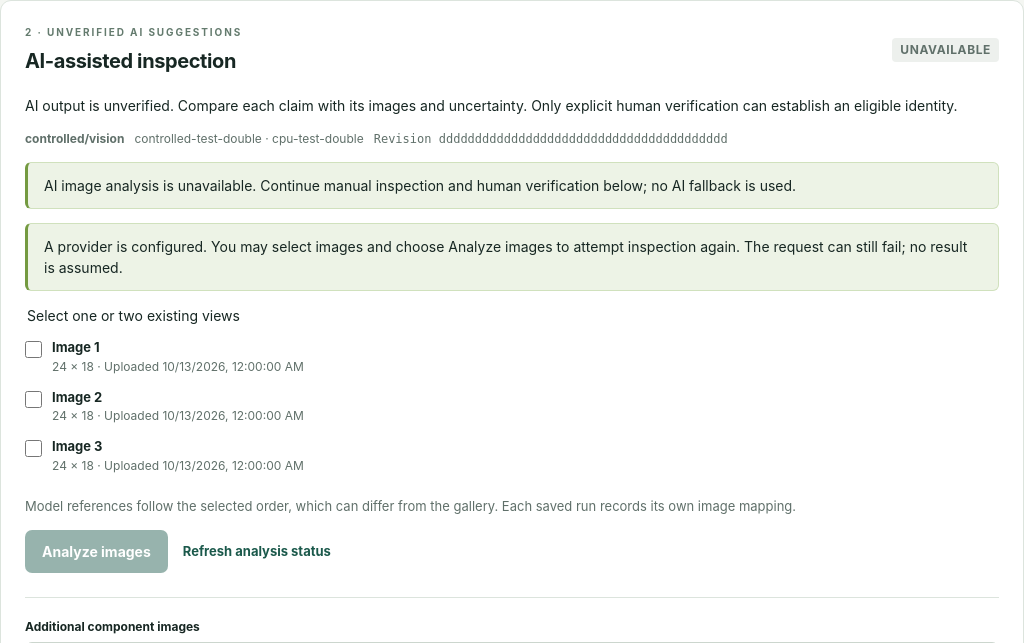
Test: inspection requests and explicit human actions › allows an explicit configured-provider retry without assuming successful recovery
Expected: the text "A provider is configured" is shown, 44,238 -> 967,276
Step 1. Click the checkbox labelled "Image 1 24 × 18 · Uploaded 10/13/2026, 12:00:00 AM" → (34, 350), box 25,341 -> 42,358
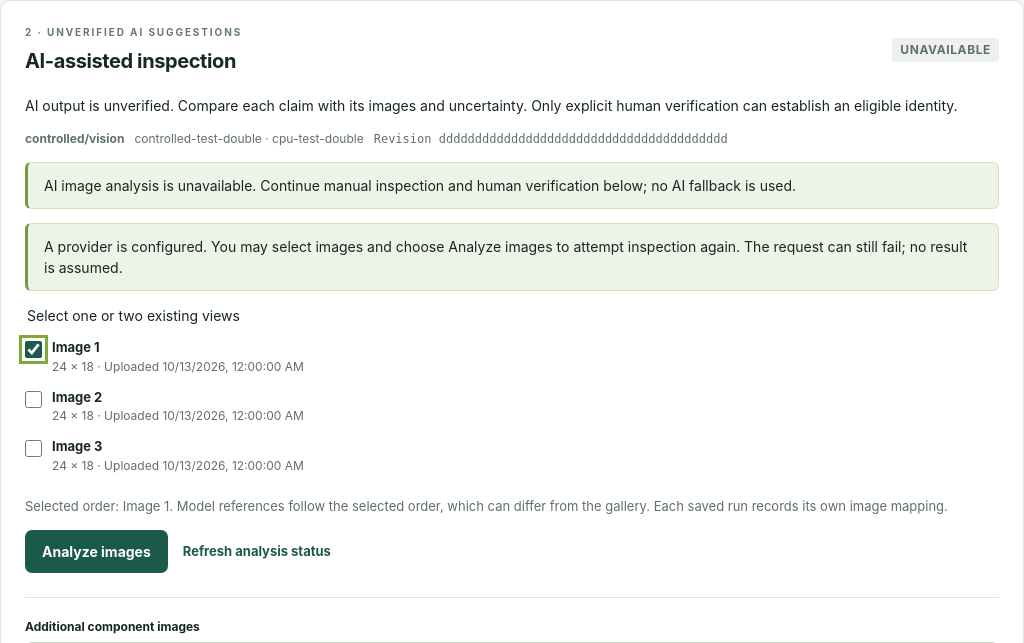
Result: the button "Analyze images" is enabled
Step 2. Click the button "Analyze images" → (96, 552), box 25,530 -> 168,573
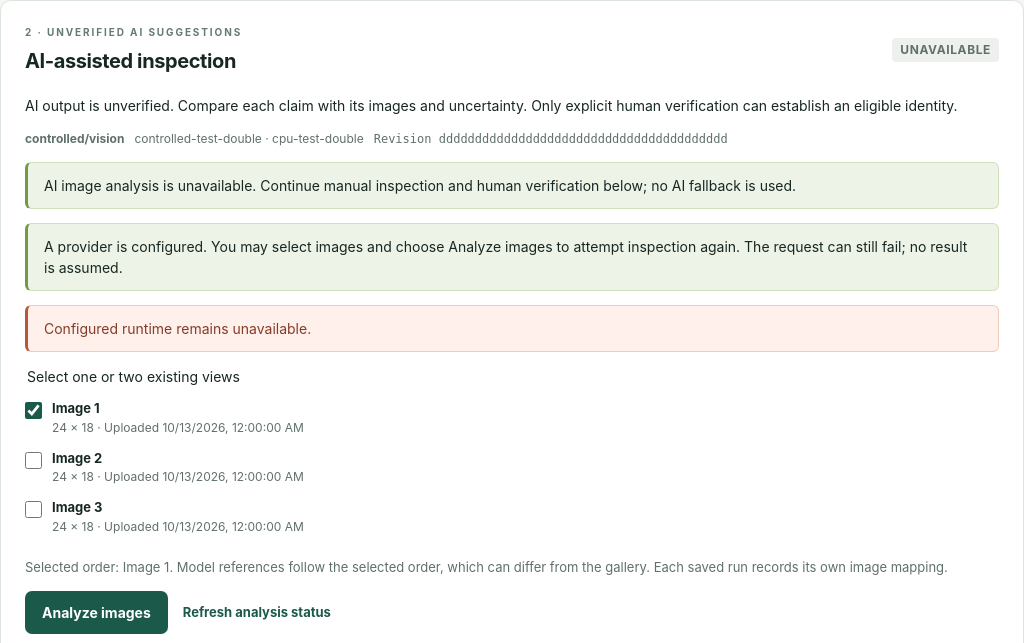
Result: the message "Configured runtime remains unavailable." is shown at 25,305 -> 999,352
